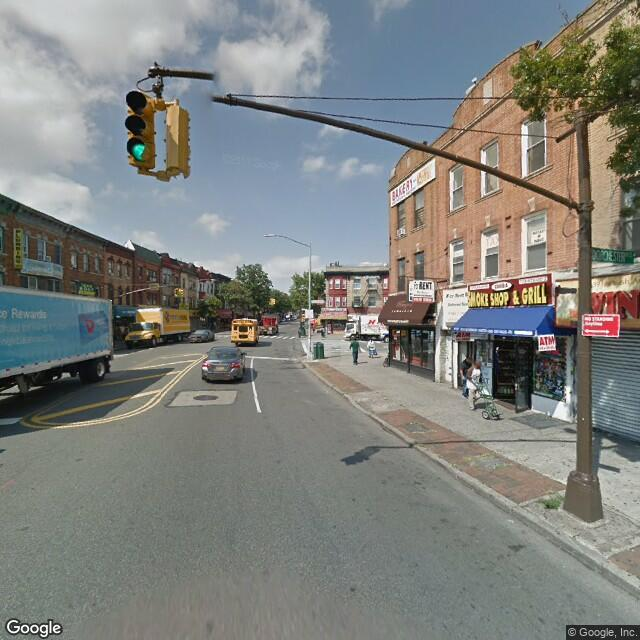litter: (502, 516, 519, 532)
